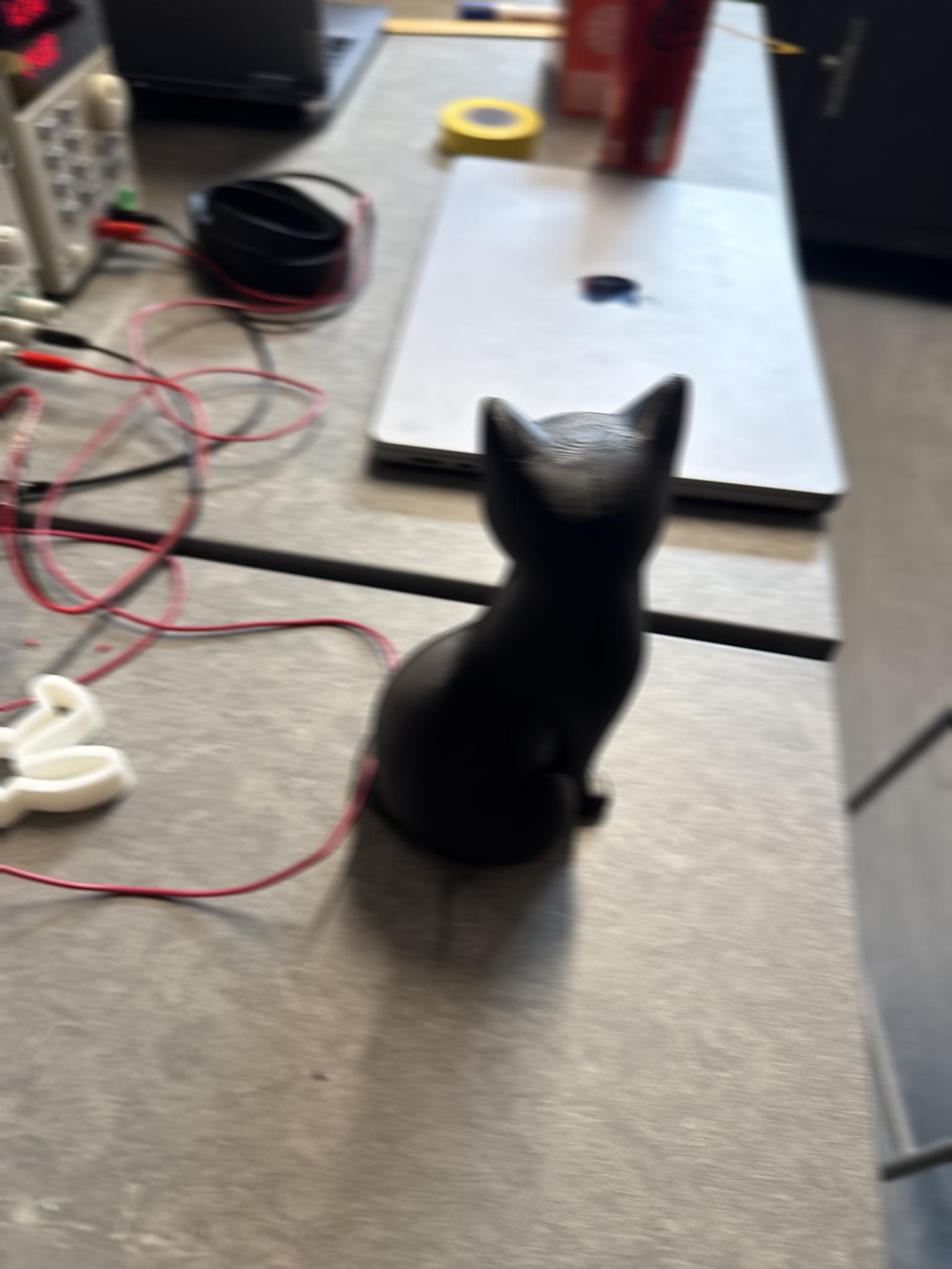cat: (345, 374, 689, 901)
